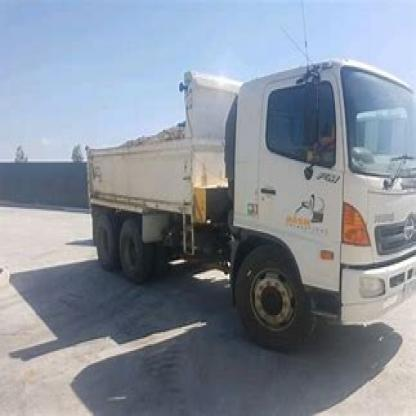dump_truck: (78, 38, 414, 356)
